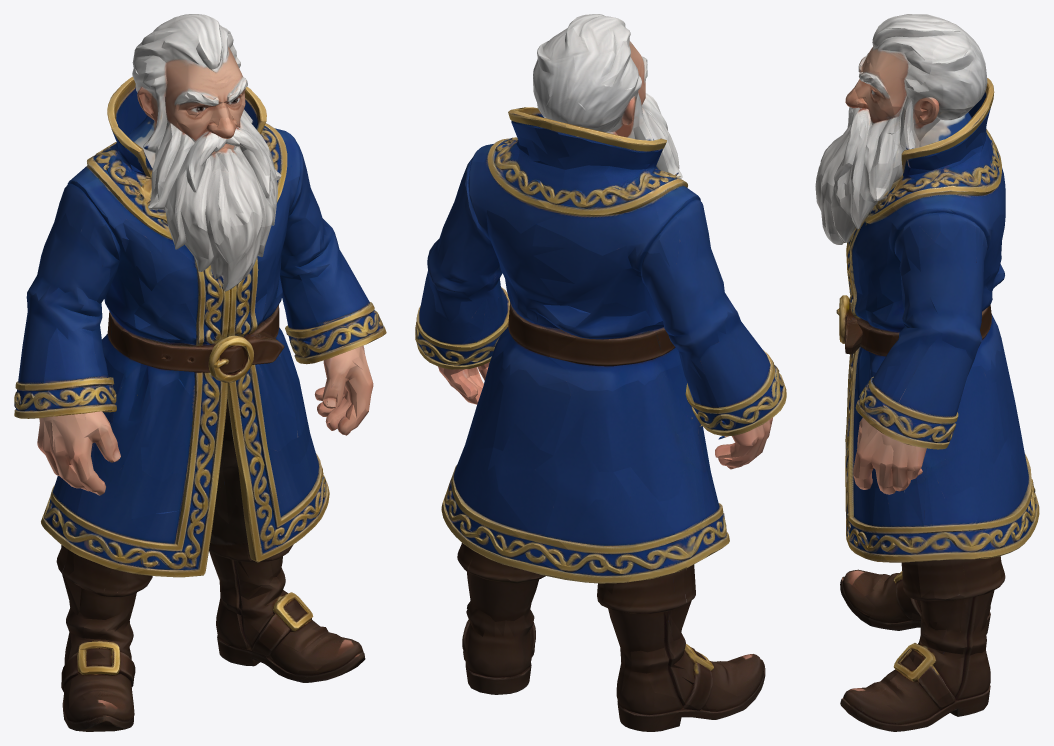
Rendered from wizard_robed.glb.
3 renders of one model, left to right at view 1: azimuth 30°, elevation 25°; view 2: azimuth 150°, elevation 25°; view 3: azimuth 270°, elevation 25°, orthographic. The views are drawn at different scales.
Visible parts, largest first — view 1: Mesh_0; view 2: Mesh_0; view 3: Mesh_0.
Boxes of the visible parts, box(x1,y1,x2,y2) form: Mesh_0: box(14, 14, 386, 731); Mesh_0: box(415, 14, 786, 731); Mesh_0: box(815, 14, 1039, 731).
Bounding box in the file's own units: 1.08 × 1.9 × 0.5942.
Materials: 1 (1 with a texture image).
